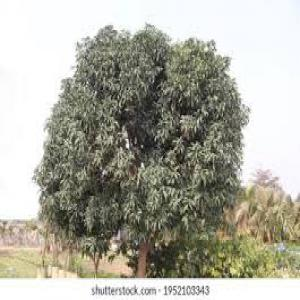Tree: (31, 19, 250, 276)
